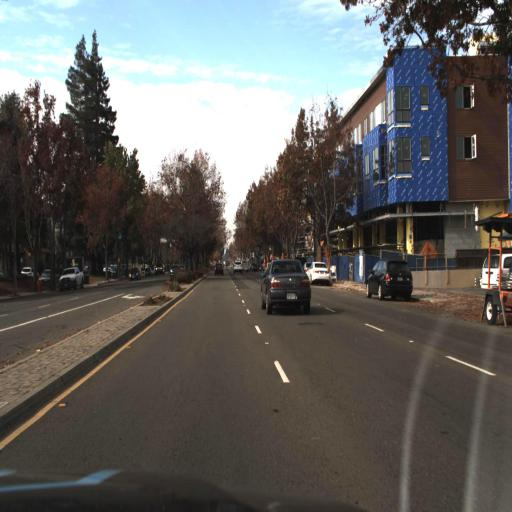car: (263, 257, 310, 315), (364, 259, 418, 300), (303, 260, 332, 286), (57, 266, 81, 291), (211, 256, 228, 279), (231, 255, 245, 276)
